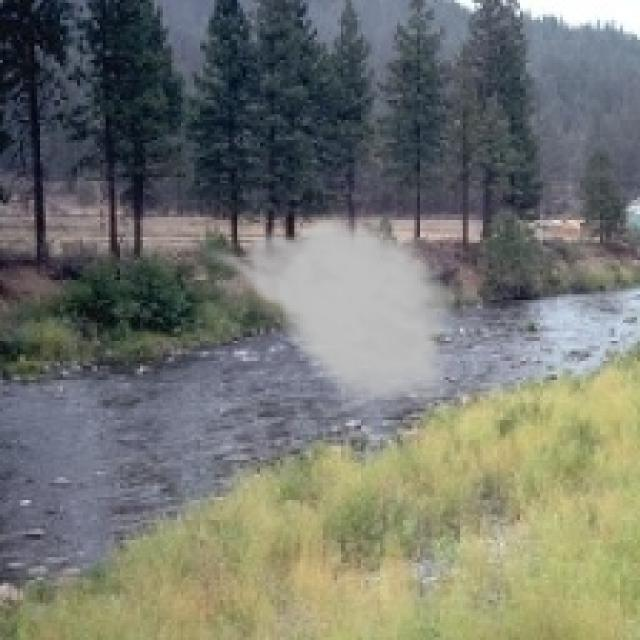smoke: (194, 206, 463, 417)
